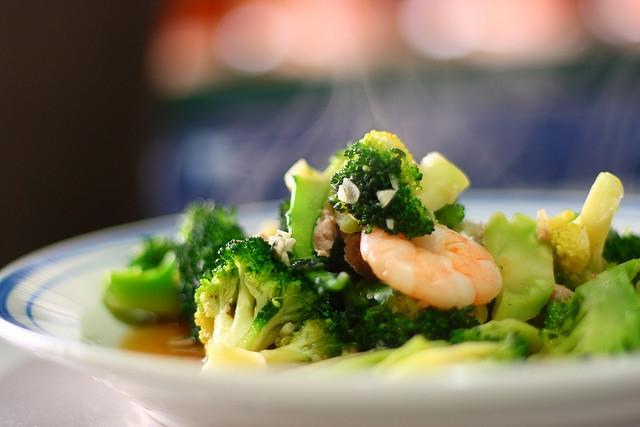broccoli: (100, 201, 246, 342), (195, 236, 343, 372), (526, 258, 640, 365), (328, 138, 434, 240), (535, 171, 625, 289), (481, 210, 555, 322), (385, 330, 529, 376), (346, 306, 480, 353)
